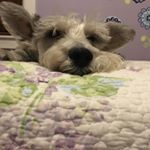puppy: (1, 1, 141, 73)
